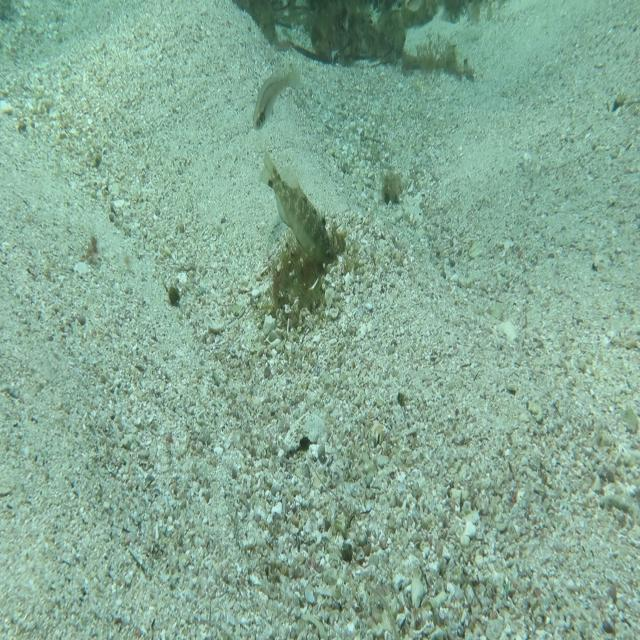NIP_CORE: (255, 145, 334, 274)
female: (247, 65, 310, 136)
nest: (259, 222, 352, 331)
vegetation: (248, 0, 495, 23), (272, 24, 420, 57), (381, 171, 401, 208)
